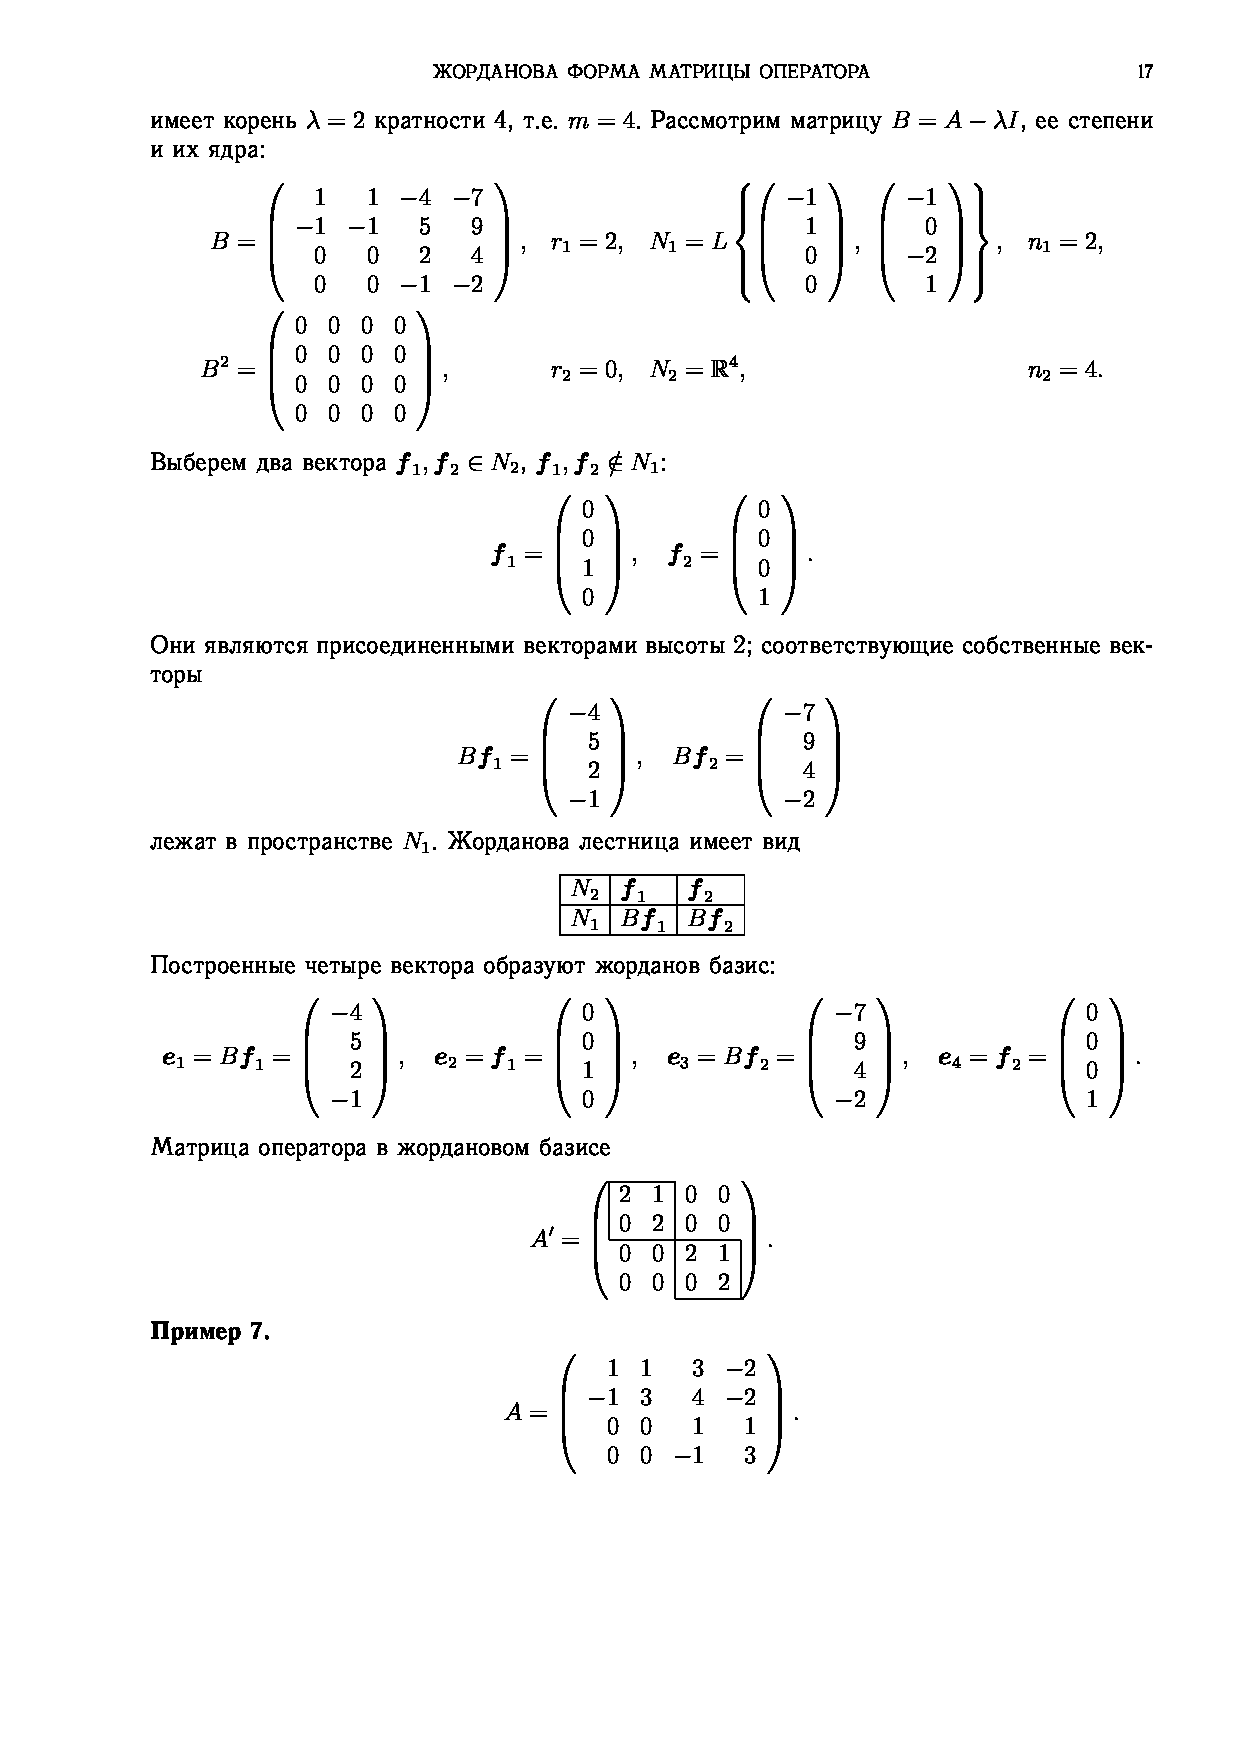pMatrix: (268, 174, 513, 307), (560, 1351, 788, 1478), (593, 1180, 760, 1308), (268, 309, 439, 433), (879, 174, 968, 313), (756, 692, 845, 823), (539, 692, 628, 823), (811, 989, 892, 1126), (302, 996, 391, 1122), (760, 178, 845, 307), (1057, 998, 1130, 1125), (733, 493, 800, 624), (560, 491, 628, 620), (560, 989, 624, 1126)
